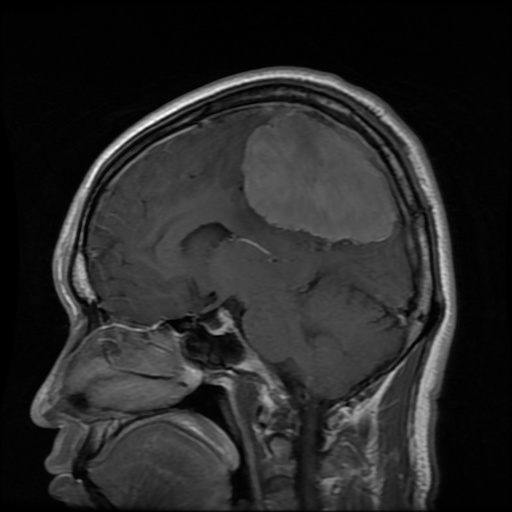meningioma: (243, 108, 400, 242)
